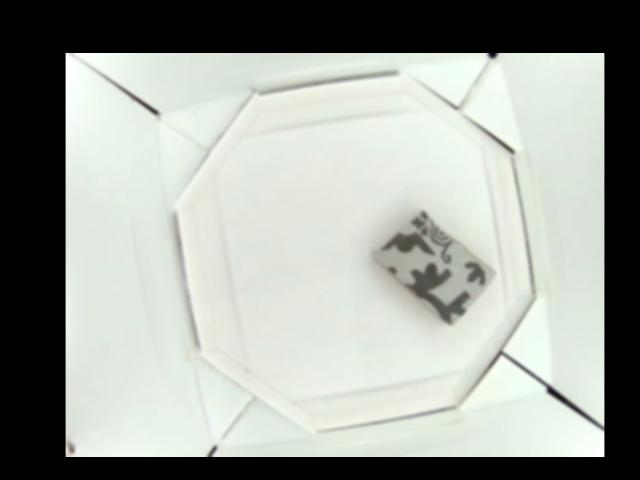China: (371, 208, 500, 321)
